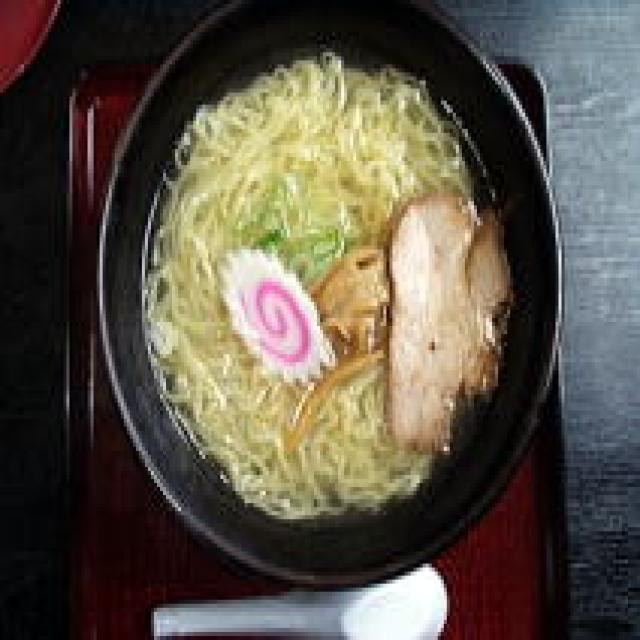面条主食: (82, 0, 568, 596)
